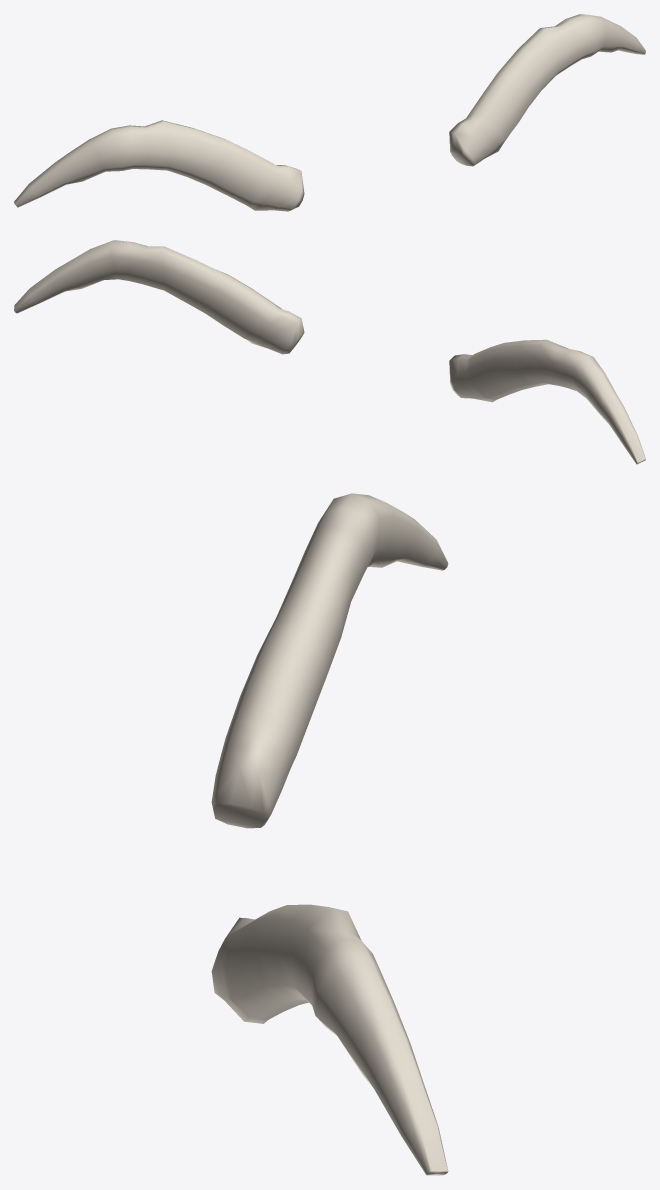
The model's file is Eyebrows_18_07.fbx.
3 views of the same model, one above another, from view 1: azimuth 30°, elevation 25°; view 2: azimuth 150°, elevation 25°; view 3: azimuth 270°, elevation 25° (orthographic). The views are drawn at different scales.
Parts seen in each view (by area): view 1: Eyebrows_18_07; view 2: Eyebrows_18_07; view 3: Eyebrows_18_07.
Part boxes in pixels (<box>): Eyebrows_18_07: <box>14,14,645,211</box>; Eyebrows_18_07: <box>14,240,645,464</box>; Eyebrows_18_07: <box>211,493,448,1175</box>.
Bounding box in the file's own units: 18.22 × 2.68 × 2.96.
